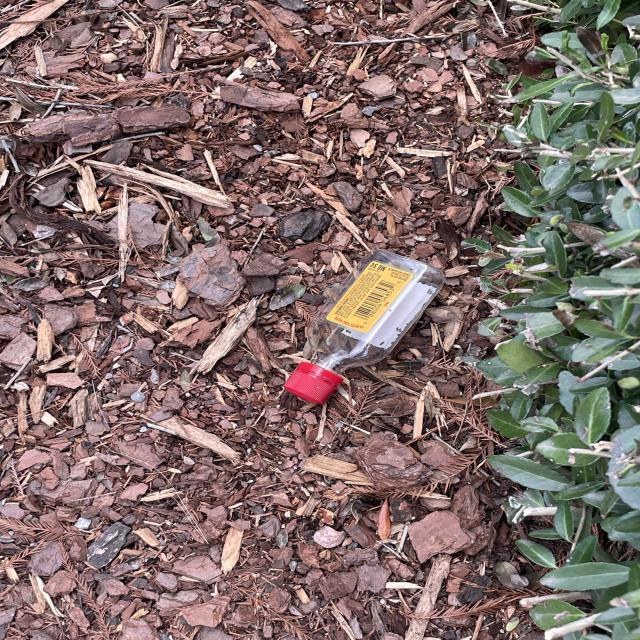plastic: (288, 240, 447, 413)
trash-zQNu: (284, 243, 450, 415)
